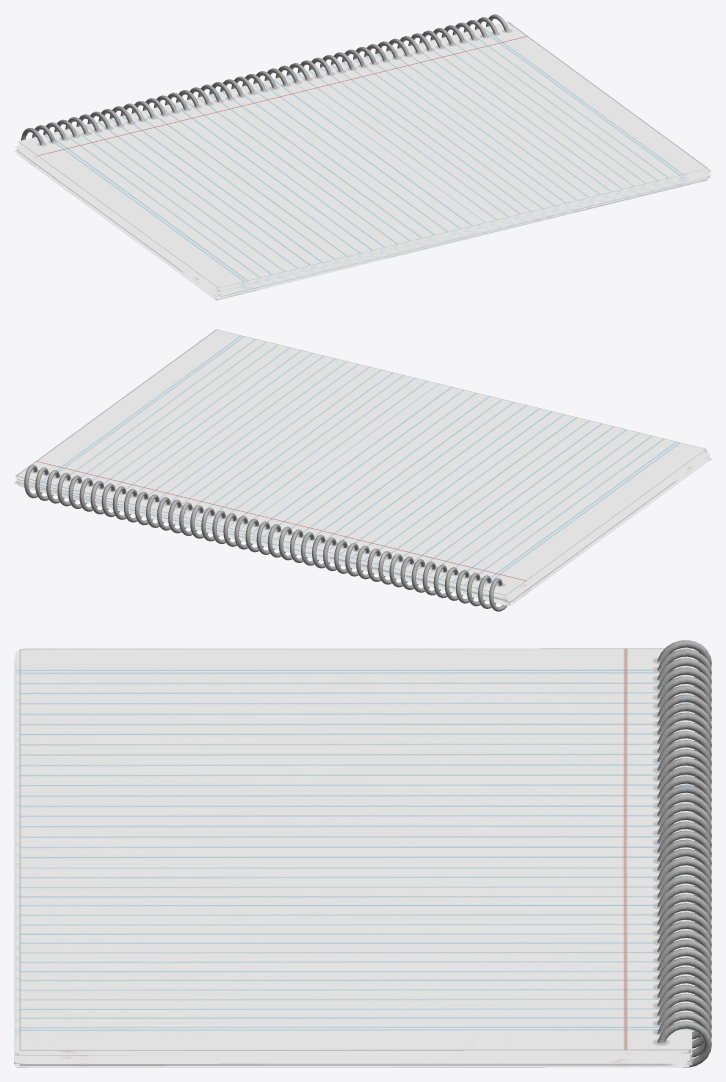
Rendered from single_spiral_notepad.glb.
The picture shows the model from 3 angles, top to bottom: view 1: azimuth 30°, elevation 25°; view 2: azimuth 150°, elevation 25°; view 3: azimuth 270°, elevation 25°; orthographic projection. The views are drawn at different scales.
Visible parts, largest first — view 1: SM_notebook_papers.109_5, SM_spirals_main.003_0, SM_notebook_papers.119_15, SM_notebook_papers.125_21, SM_notebook_papers.110_6, SM_notebook_papers.105_1, SM_notebook_papers.138_34, SM_notebook_papers.111_7, SM_notebook_papers.121_17, SM_notebook_papers.118_14, SM_notebook_papers.115_11, SM_notebook_papers.117_13 (+4 smaller); view 2: SM_notebook_papers.109_5, SM_spirals_main.003_0, SM_notebook_papers.117_13, SM_notebook_papers.119_15, SM_notebook_papers.112_8, SM_notebook_papers.127_23, SM_notebook_papers.131_27, SM_notebook_papers.126_22, SM_notebook_papers.106_2, SM_notebook_papers.107_3, SM_notebook_papers.137_33, SM_notebook_papers.108_4 (+3 smaller); view 3: SM_notebook_papers.109_5, SM_spirals_main.003_0, SM_notebook_papers.110_6, SM_notebook_papers.115_11, SM_notebook_papers.118_14, SM_notebook_papers.134_30, SM_notebook_papers.111_7, SM_notebook_papers.120_16, SM_notebook_papers.106_2, SM_notebook_papers.108_4, SM_notebook_papers.129_25, SM_notebook_papers.136_32 (+4 smaller).
Part boxes in pixels (left/top/right/bottom): SM_notebook_papers.109_5: left=18, top=22, right=707, bottom=287; SM_spirals_main.003_0: left=21, top=14, right=509, bottom=145; SM_notebook_papers.119_15: left=15, top=146, right=704, bottom=293; SM_notebook_papers.125_21: left=18, top=150, right=707, bottom=296; SM_notebook_papers.110_6: left=27, top=148, right=709, bottom=289; SM_notebook_papers.105_1: left=16, top=153, right=705, bottom=300; SM_notebook_papers.138_34: left=217, top=178, right=708, bottom=298; SM_notebook_papers.111_7: left=220, top=170, right=710, bottom=290; SM_notebook_papers.121_17: left=216, top=173, right=706, bottom=294; SM_notebook_papers.118_14: left=220, top=173, right=710, bottom=294; SM_notebook_papers.115_11: left=220, top=171, right=710, bottom=291; SM_notebook_papers.117_13: left=18, top=144, right=220, bottom=291; SM_notebook_papers.109_5: left=16, top=329, right=706, bottom=595; SM_spirals_main.003_0: left=24, top=464, right=506, bottom=611; SM_notebook_papers.117_13: left=18, top=451, right=707, bottom=597; SM_notebook_papers.119_15: left=508, top=453, right=710, bottom=599; SM_notebook_papers.112_8: left=17, top=453, right=706, bottom=599; SM_notebook_papers.127_23: left=19, top=456, right=709, bottom=602; SM_notebook_papers.131_27: left=20, top=457, right=710, bottom=604; SM_notebook_papers.126_22: left=17, top=480, right=508, bottom=600; SM_notebook_papers.106_2: left=15, top=329, right=505, bottom=595; SM_notebook_papers.107_3: left=17, top=450, right=706, bottom=596; SM_notebook_papers.137_33: left=19, top=486, right=510, bottom=606; SM_notebook_papers.108_4: left=15, top=476, right=505, bottom=596; SM_notebook_papers.109_5: left=19, top=648, right=691, bottom=1050; SM_spirals_main.003_0: left=657, top=640, right=711, bottom=1067; SM_notebook_papers.110_6: left=16, top=650, right=688, bottom=1052; SM_notebook_papers.115_11: left=17, top=1055, right=689, bottom=1058; SM_notebook_papers.118_14: left=14, top=659, right=686, bottom=1061; SM_notebook_papers.134_30: left=19, top=1056, right=692, bottom=1065; SM_notebook_papers.111_7: left=15, top=653, right=686, bottom=1055; SM_notebook_papers.120_16: left=15, top=1061, right=687, bottom=1063; SM_notebook_papers.106_2: left=18, top=1050, right=690, bottom=1053; SM_notebook_papers.108_4: left=19, top=1052, right=691, bottom=1054; SM_notebook_papers.129_25: left=17, top=1064, right=689, bottom=1066; SM_notebook_papers.136_32: left=16, top=1066, right=687, bottom=1067.
Bounding box in the file's own units: 0.3008 × 0.0172 × 0.218.
Materials: 1 (1 with a texture image).
